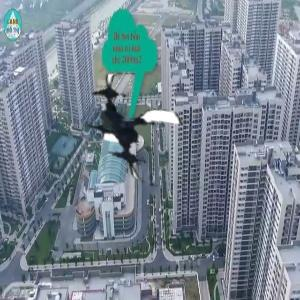drone: (79, 70, 198, 189)
